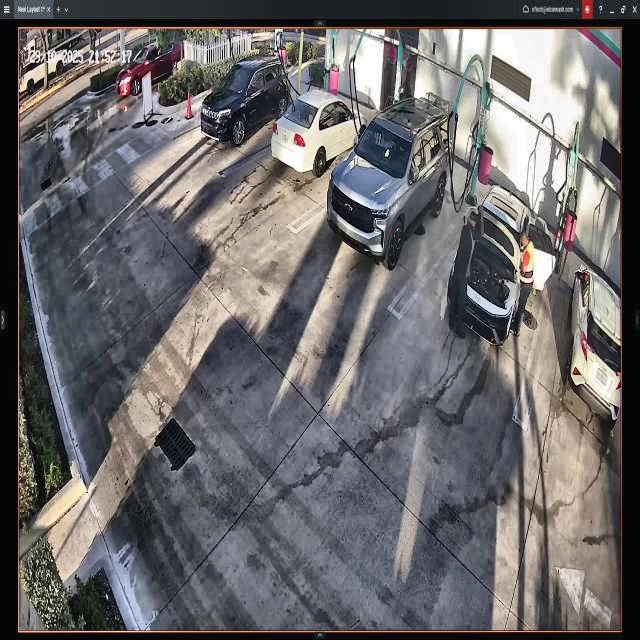Car: (327, 98, 448, 264), (448, 185, 553, 337), (272, 89, 367, 173)
